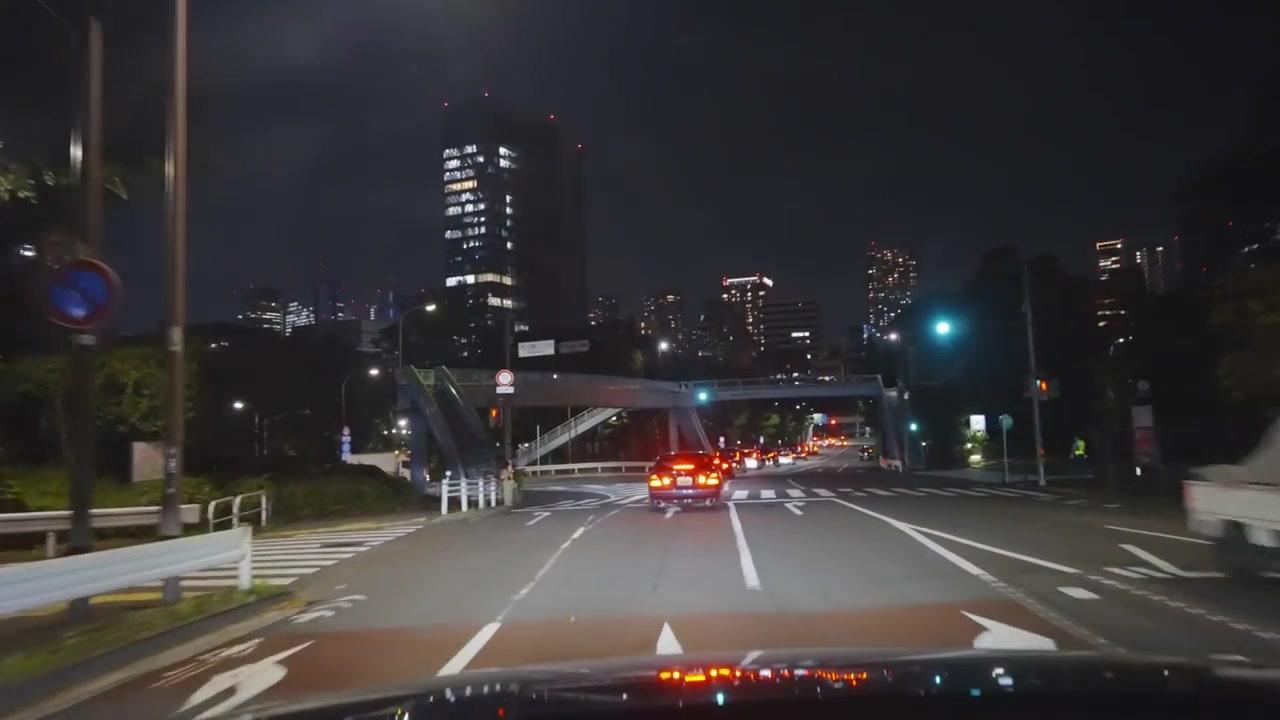car: (646, 450, 726, 509), (859, 448, 875, 459)
traffic light: (43, 258, 123, 334), (931, 314, 954, 347), (489, 405, 501, 432), (694, 385, 710, 405), (1035, 378, 1048, 396)
truck: (1181, 413, 1280, 574)
